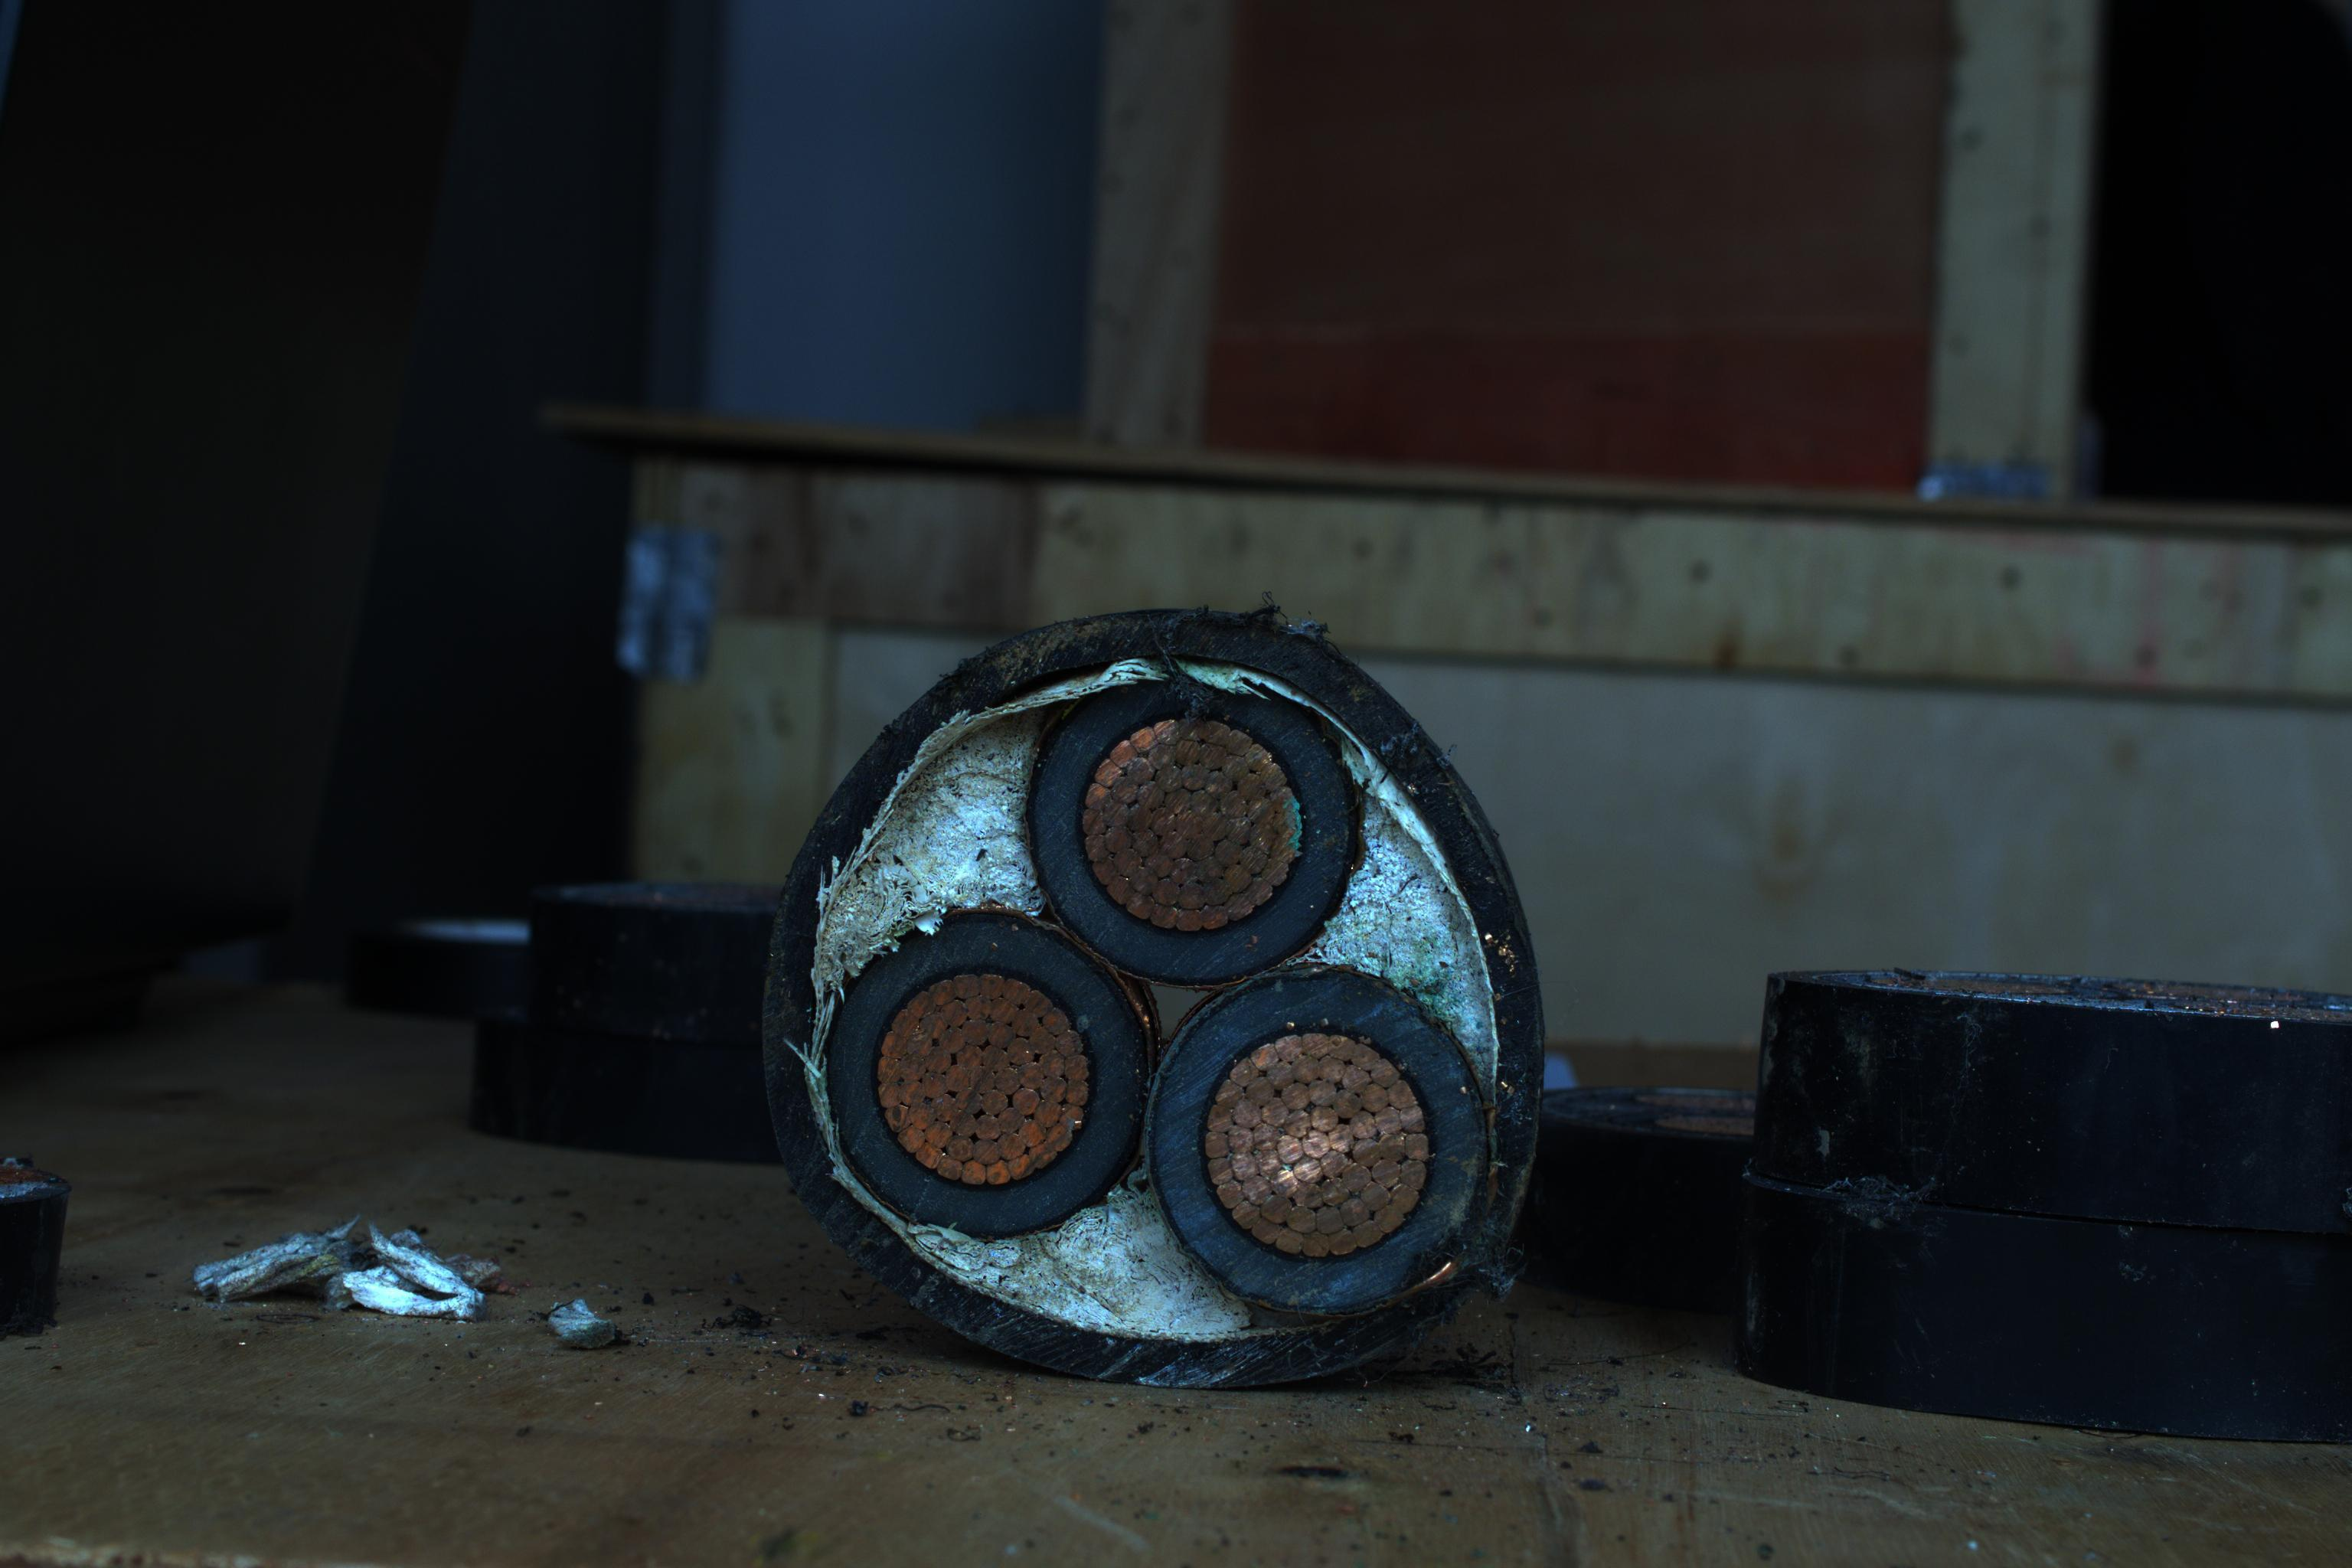ZA_YJV_8.7_10kV_3x400: (812, 637, 1519, 1382)
